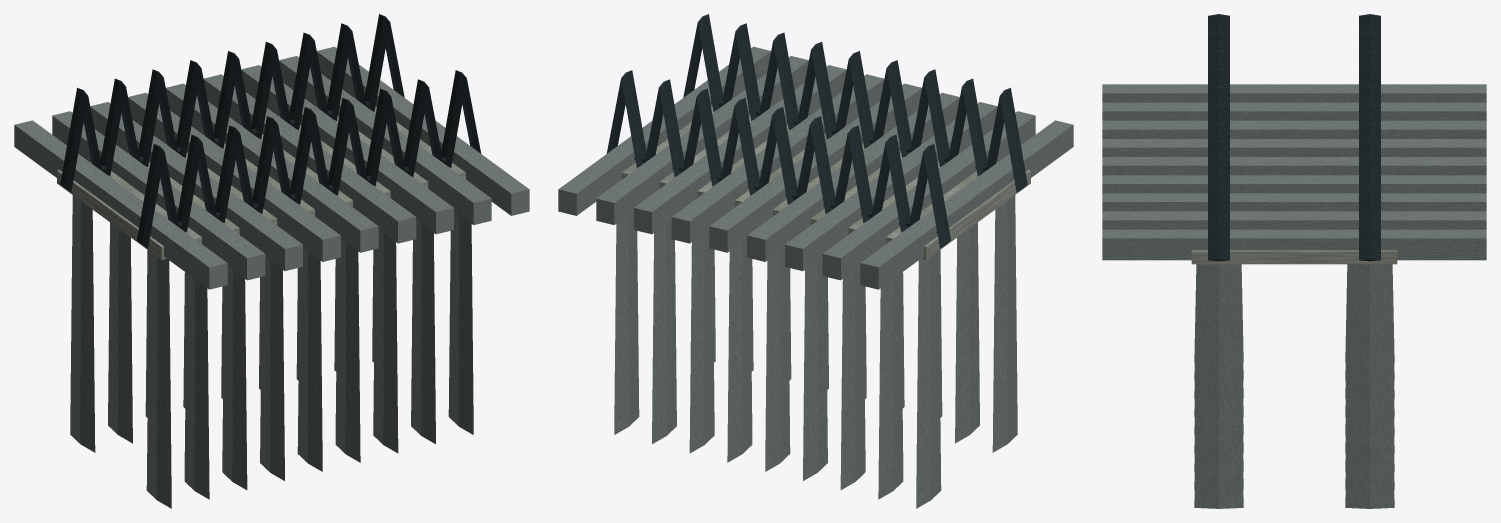
The model's file is skyway_leviathan_01.fbx.
The picture shows the model from 3 angles, left to right: view 1: azimuth 30°, elevation 25°; view 2: azimuth 150°, elevation 25°; view 3: azimuth 270°, elevation 25°; orthographic projection.
Parts seen in each view (by area): view 1: skyway_leviathan_01_LOD0; view 2: skyway_leviathan_01_LOD0; view 3: skyway_leviathan_01_LOD0.
Part boxes in pixels (x1,y1,x2,y2): skyway_leviathan_01_LOD0: (14, 14, 529, 508); skyway_leviathan_01_LOD0: (558, 14, 1073, 508); skyway_leviathan_01_LOD0: (1102, 14, 1486, 508).
Size of what is drawn, in the model's own units: 1 by 1 by 1.
